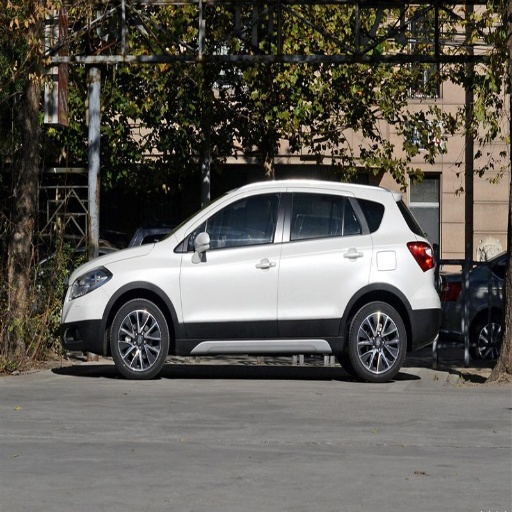back_bumper: (406, 277, 444, 349)
back_left_door: (279, 191, 373, 338)
front_left_door: (180, 192, 285, 341)
